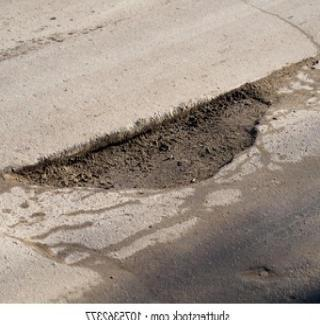pothole: (6, 90, 268, 190)
